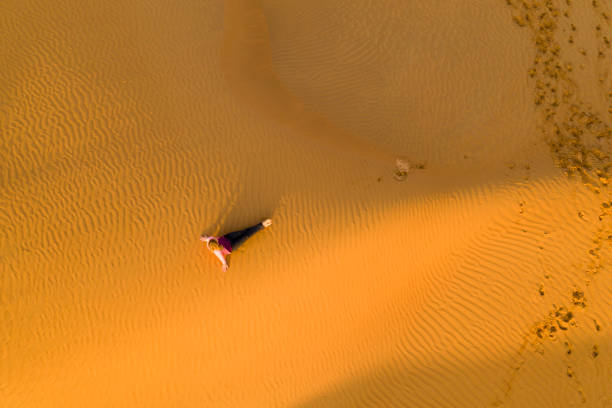human_foot_print: (508, 5, 611, 356)
